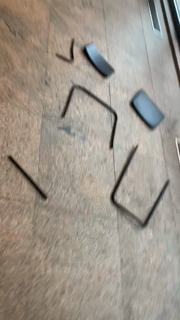Back: (82, 42, 116, 82)
C pipe: (61, 83, 119, 153)
L pipe: (56, 37, 79, 65)
Seat: (128, 86, 166, 133)
U pipe: (107, 141, 174, 232)
i pipe: (6, 153, 50, 203)
